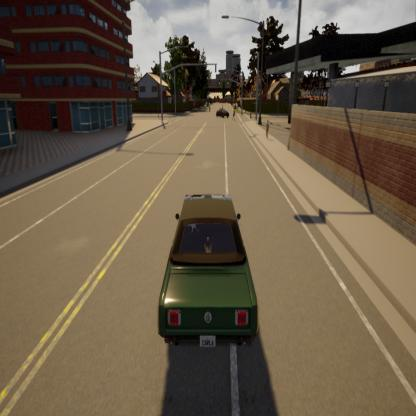Cars: (158, 194, 259, 347), (216, 106, 228, 119)
Pedestrian: (265, 120, 270, 139), (232, 105, 236, 122), (209, 104, 210, 112)
